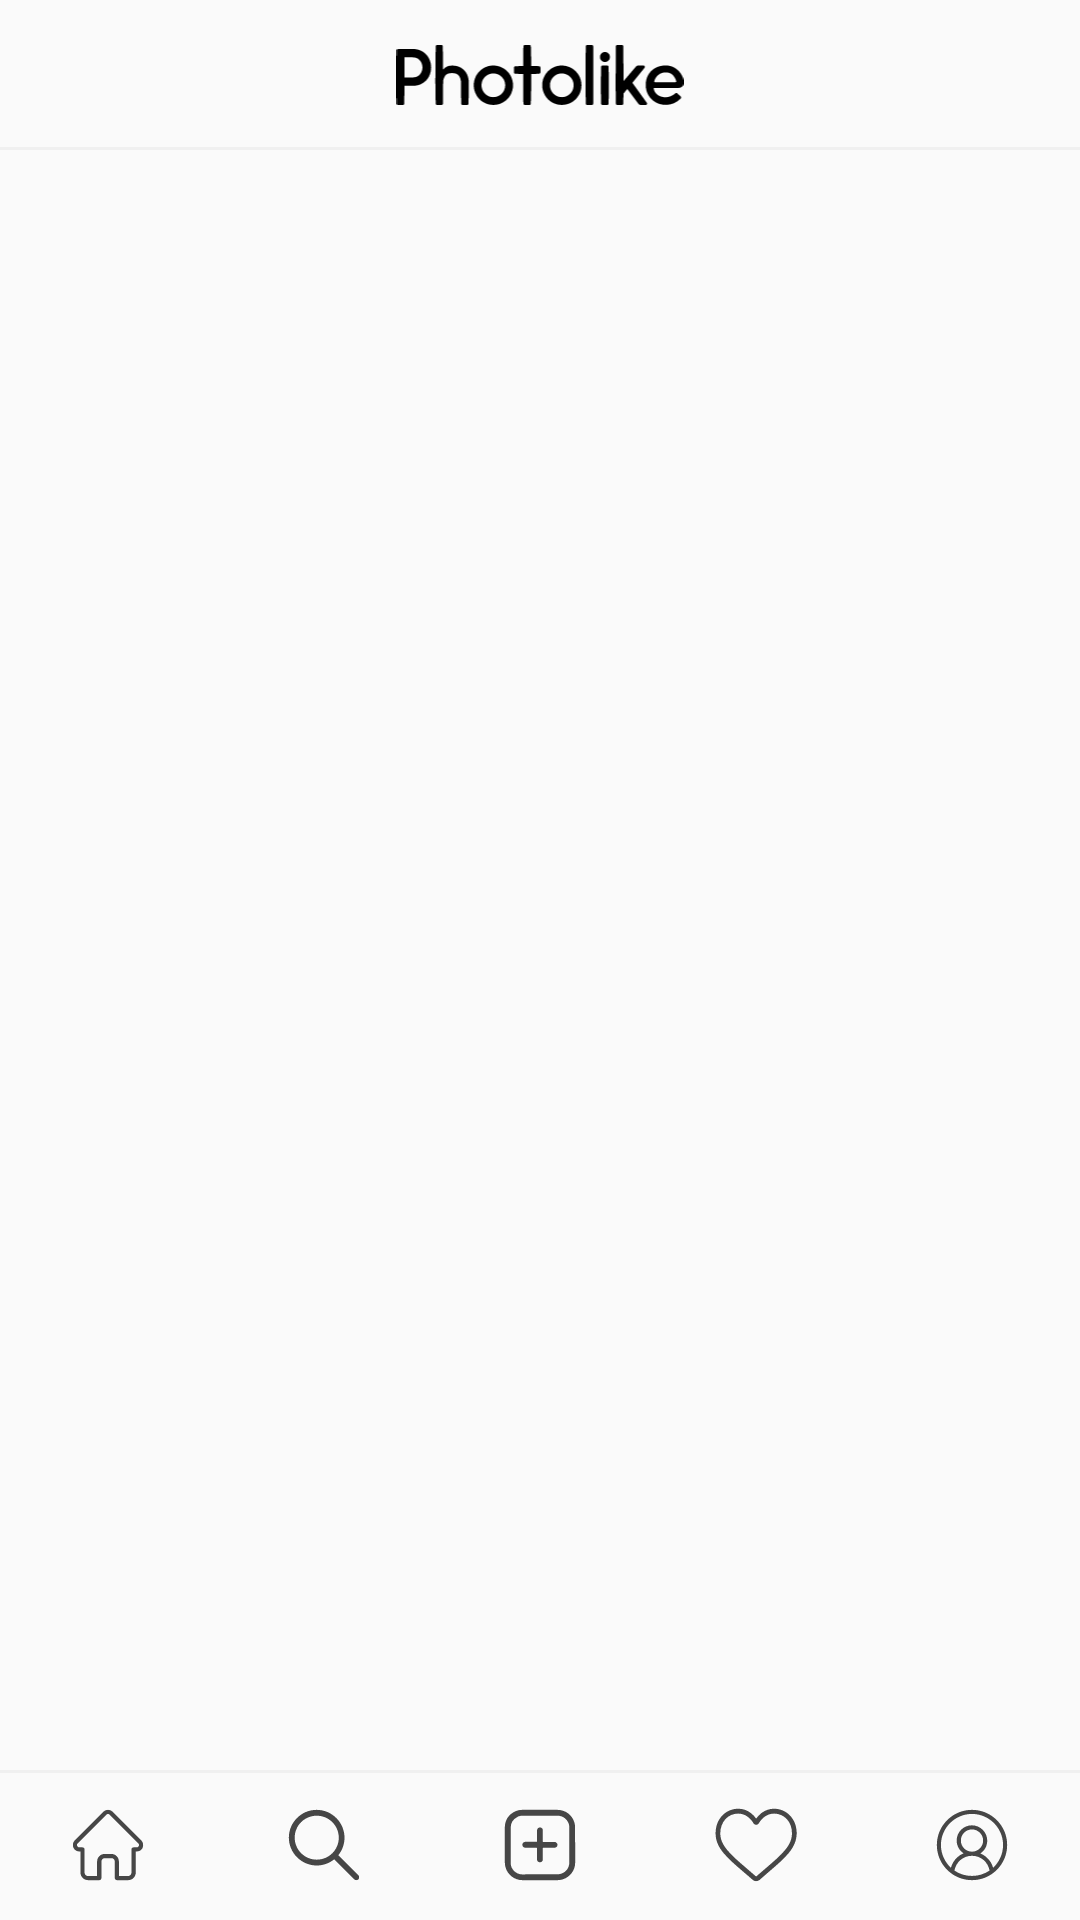

Icons on this 1080px×1920px Android screen, each with its box as [x1,y1,x2,y2]:
activity: [715,1808,797,1881]
home: [73,1810,143,1881]
post: [504,1809,576,1881]
profile: [936,1809,1007,1881]
search: [288,1809,359,1880]
